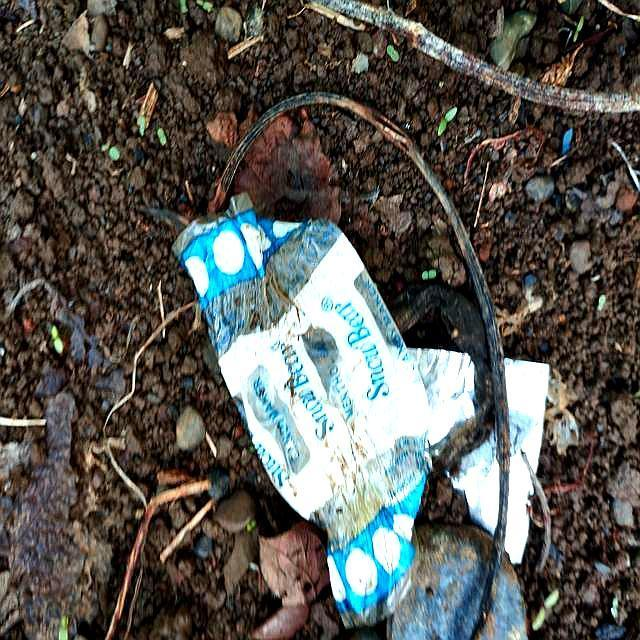Non-biodegradable: (147, 175, 517, 640)
